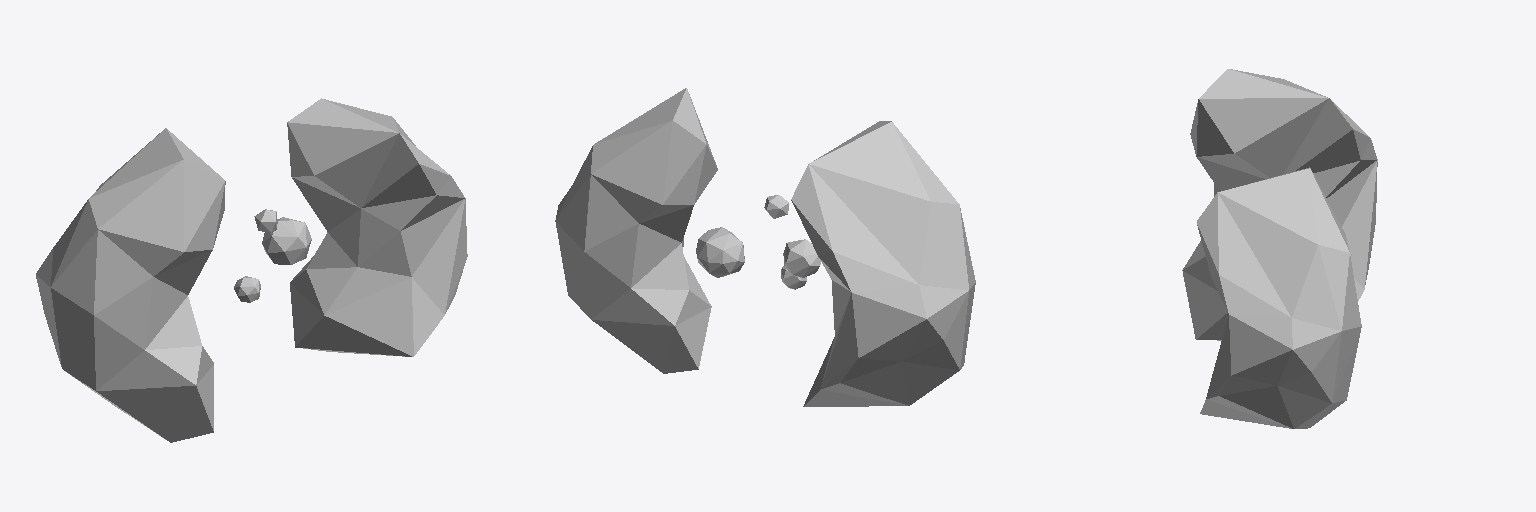
The model's file is kidney.obj.
3 views of the same model, side by side, from view 1: azimuth 30°, elevation 25°; view 2: azimuth 150°, elevation 25°; view 3: azimuth 270°, elevation 25° (orthographic).
Visible parts, largest first — view 1: Sphere, Sphere.001, Icosphere.002, Icosphere.003; view 2: Sphere, Sphere.001, Icosphere.002, Icosphere.001; view 3: Sphere.001, Sphere.
Boxes of the visible parts, <box> form: Sphere: <box>36,128,225,442</box>; Sphere.001: <box>287,98,467,356</box>; Icosphere.002: <box>262,217,311,264</box>; Icosphere.003: <box>234,276,260,302</box>; Sphere: <box>791,121,975,406</box>; Sphere.001: <box>555,88,717,373</box>; Icosphere.002: <box>696,227,744,277</box>; Icosphere.001: <box>783,239,820,277</box>; Sphere.001: <box>1197,167,1361,428</box>; Sphere: <box>1182,69,1377,340</box>.
Bounding box in the file's own units: 13.27 × 8.7 × 5.52.